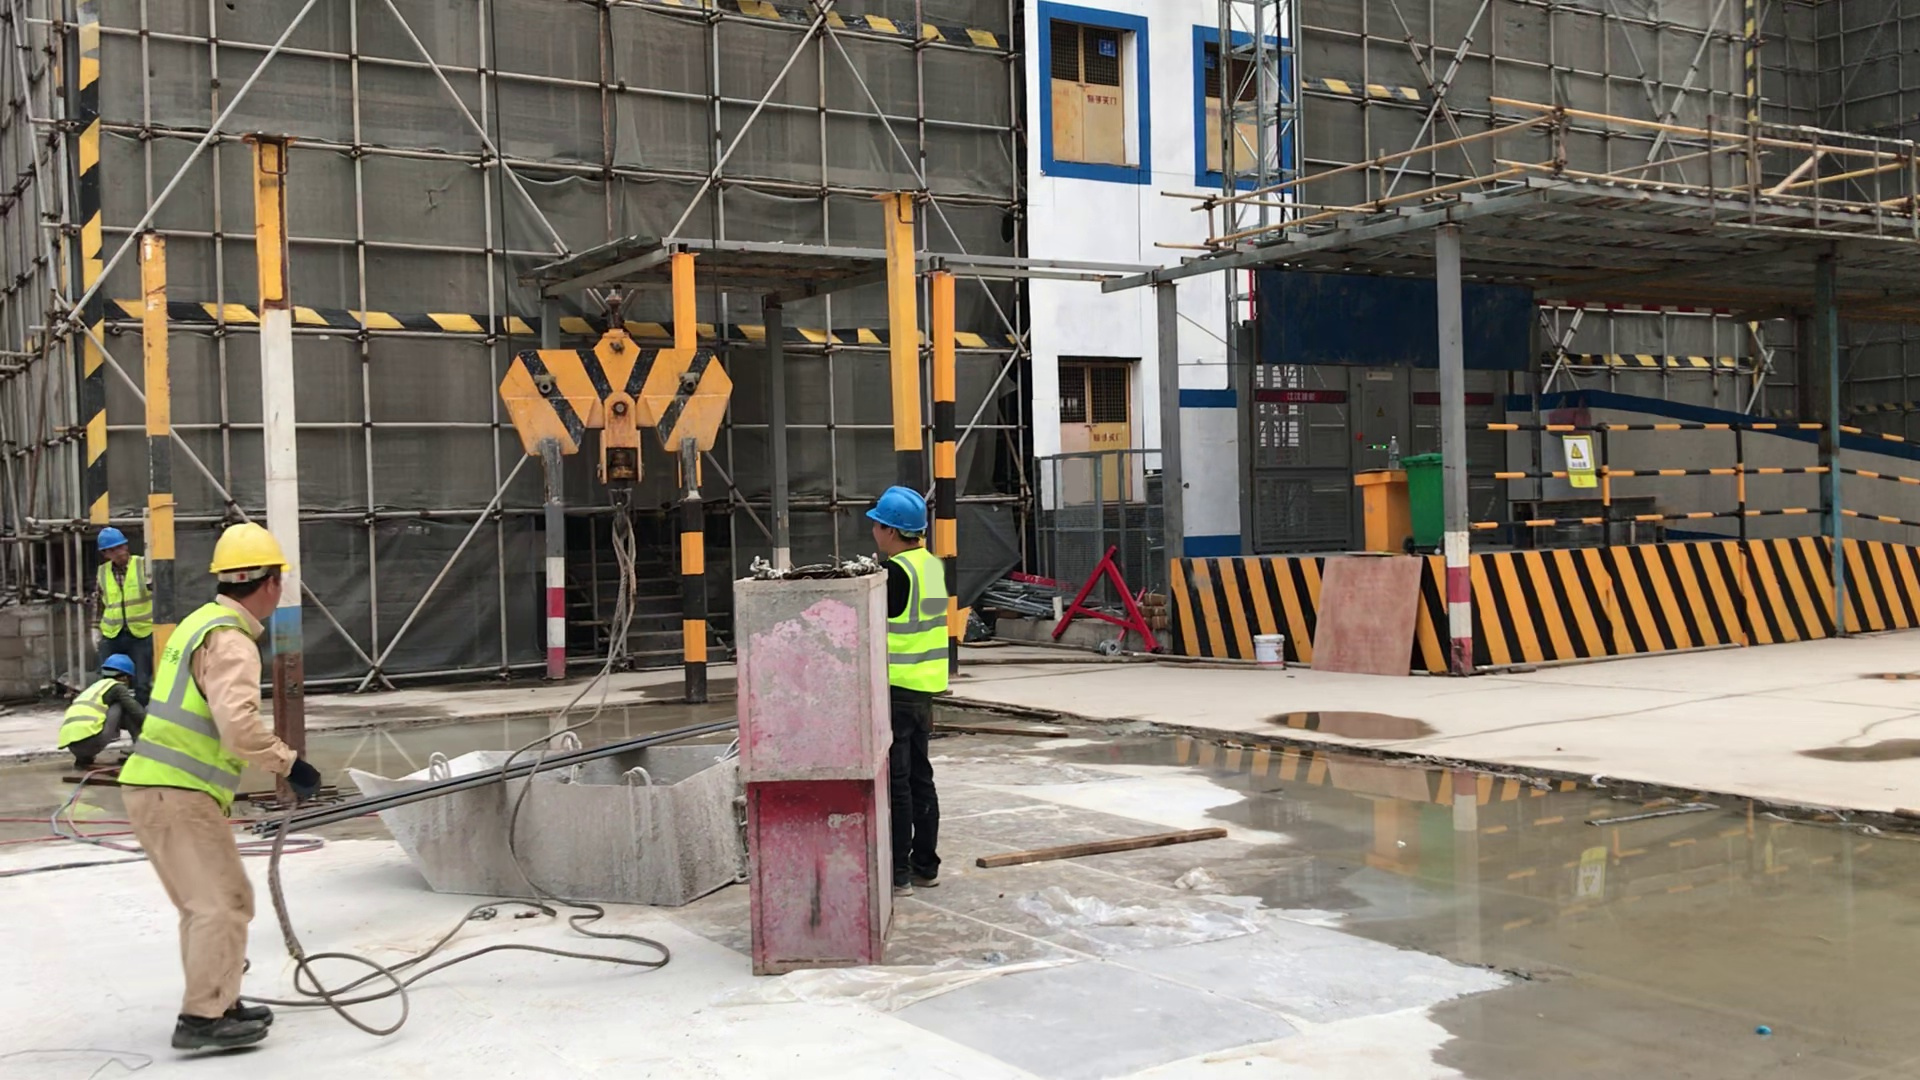helmet: (201, 515, 300, 581), (851, 473, 948, 541), (94, 643, 140, 684), (90, 520, 140, 557)
person: (123, 508, 350, 1077), (835, 450, 997, 895), (47, 629, 154, 804), (71, 500, 170, 673)
vest: (120, 608, 268, 816), (879, 542, 959, 711), (87, 551, 162, 642), (53, 678, 118, 762)
